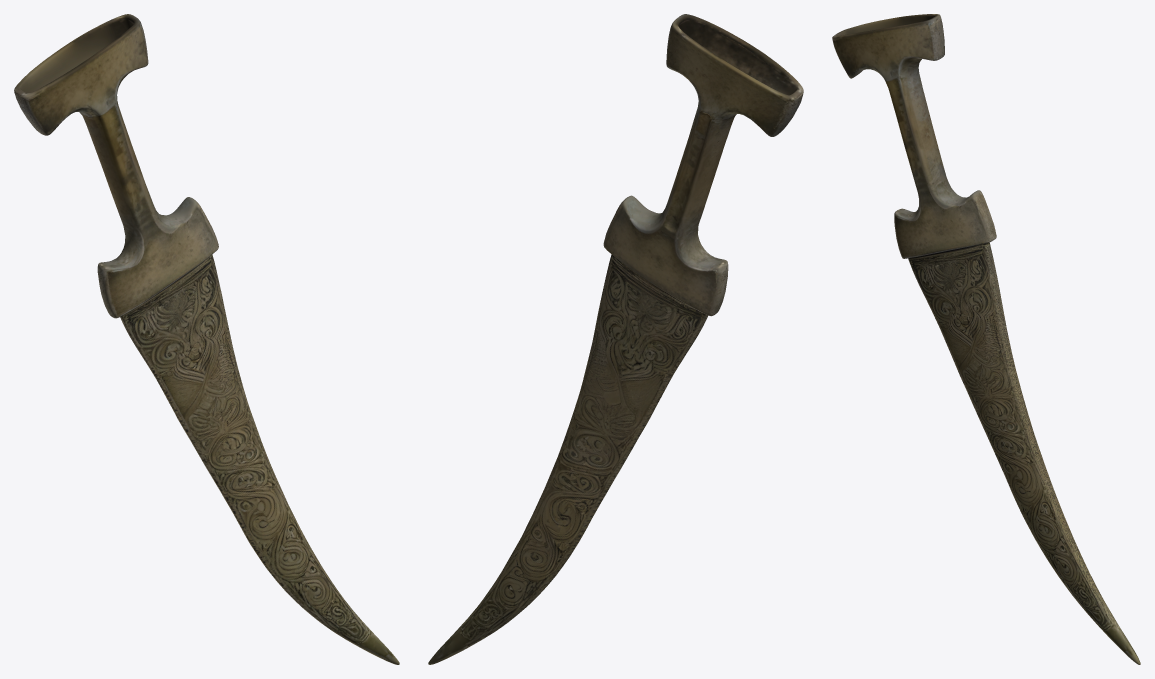
File: Gumia.glb
The picture shows the model from 3 angles, left to right: view 1: azimuth 30°, elevation 25°; view 2: azimuth 150°, elevation 25°; view 3: azimuth 330°, elevation 25°; orthographic projection. The views are drawn at different scales.
Parts seen in each view (by area): view 1: Gumia; view 2: Gumia; view 3: Gumia.
Part boxes in pixels (<box>): Gumia: <box>14,14,399,664</box>; Gumia: <box>428,14,803,664</box>; Gumia: <box>832,14,1140,664</box>.
Size of the model in its own units: 0.5816 by 1.05 by 0.0683.
Materials: 1 (1 with a texture image).
